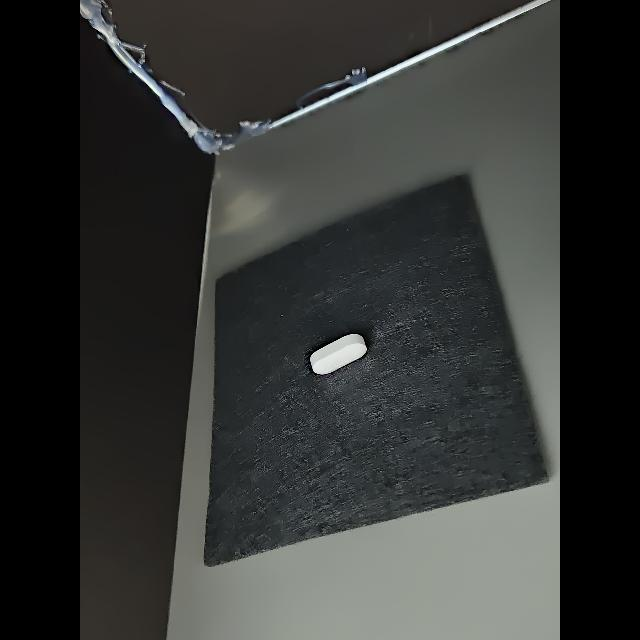Intact Pill: (310, 334, 367, 374)
